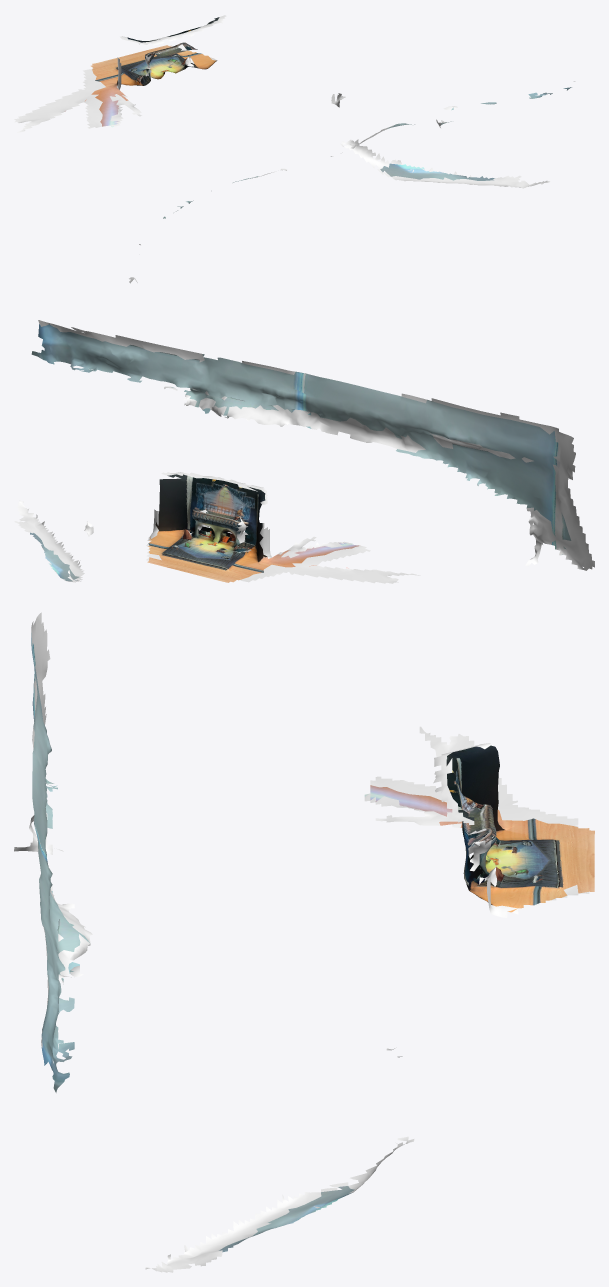
3 renders of one model, top to bottom at view 1: azimuth 30°, elevation 25°; view 2: azimuth 150°, elevation 25°; view 3: azimuth 270°, elevation 25°, orthographic. The views are drawn at different scales.
Parts seen in each view (by area): view 1: texture_0, object 1; view 2: texture_0, object 1; view 3: texture_0, object 1.
Part boxes in pixels (<box>): texture_0: <box>64,17,571,218</box>; object 1: <box>14,15,574,283</box>; texture_0: <box>30,324,571,582</box>; object 1: <box>14,320,594,583</box>; texture_0: <box>31,633,594,1252</box>; object 1: <box>14,612,589,1272</box>.
Bounding box in the file's own units: 3.7 × 1.14 × 2.12.
Materials: 2 (1 with a texture image).
